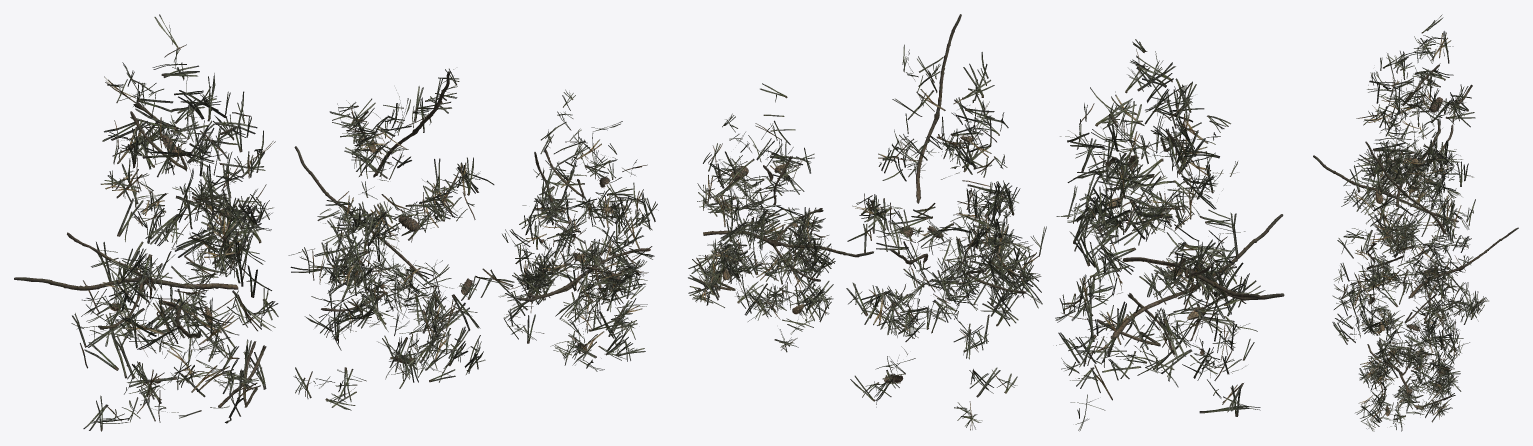
File: pine_sapling_medium_leaf.glb
The picture shows the model from 3 angles, left to right: view 1: azimuth 30°, elevation 25°; view 2: azimuth 150°, elevation 25°; view 3: azimuth 270°, elevation 25°; orthographic projection. The views are drawn at different scales.
Parts seen in each view (by area): view 1: pine_sapling_medium_a_LOD0, pine_sapling_medium_b_LOD0, pine_sapling_medium_c_LOD0; view 2: pine_sapling_medium_a_LOD0, pine_sapling_medium_b_LOD0, pine_sapling_medium_c_LOD0; view 3: pine_sapling_medium_a_LOD0, pine_sapling_medium_b_LOD0, pine_sapling_medium_c_LOD0.
Boxes of the visible parts, <box> form: pine_sapling_medium_a_LOD0: <box>14,14,278,431</box>; pine_sapling_medium_b_LOD0: <box>288,68,514,410</box>; pine_sapling_medium_c_LOD0: <box>498,89,658,371</box>; pine_sapling_medium_a_LOD0: <box>1055,39,1284,431</box>; pine_sapling_medium_b_LOD0: <box>846,14,1046,430</box>; pine_sapling_medium_c_LOD0: <box>688,83,873,352</box>; pine_sapling_medium_a_LOD0: <box>1313,14,1475,295</box>; pine_sapling_medium_b_LOD0: <box>1332,140,1518,395</box>; pine_sapling_medium_c_LOD0: <box>1355,269,1463,431</box>.
Bounding box in the file's own units: 16.98 × 11.43 × 7.25.
Materials: 1 (1 with a texture image).
